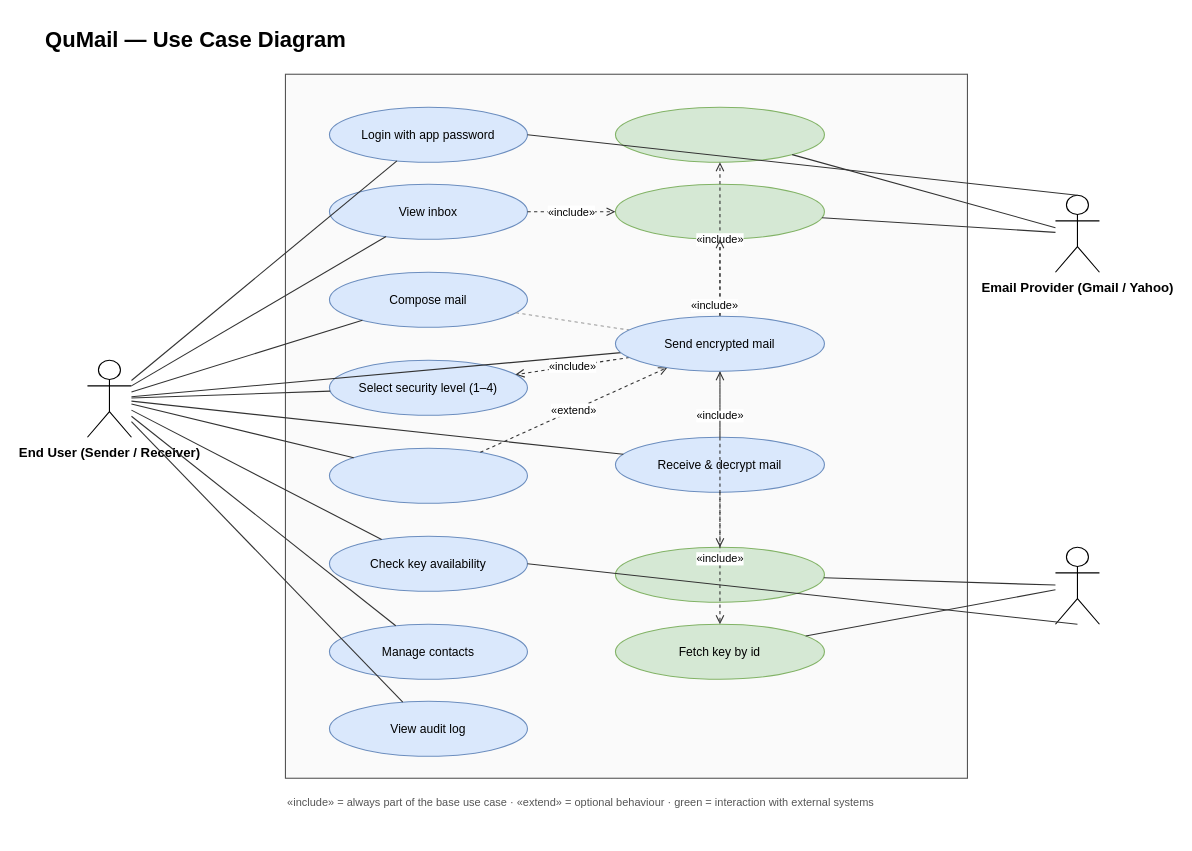
Image size: 1192x851. Some labels were removed from this diagram. The box of each missing label's shape, as (x1, y1, x2, y2) in pixels:
Attach file: (328, 447, 527, 503)
Deliver mail (SMTP): (614, 106, 824, 162)
Fetch mail (IMAP): (614, 183, 824, 239)
Key Manager (QKD simulator): (1054, 546, 1099, 624)
QuMail Client: (284, 73, 967, 778)
Request quantum key: (614, 546, 824, 602)
